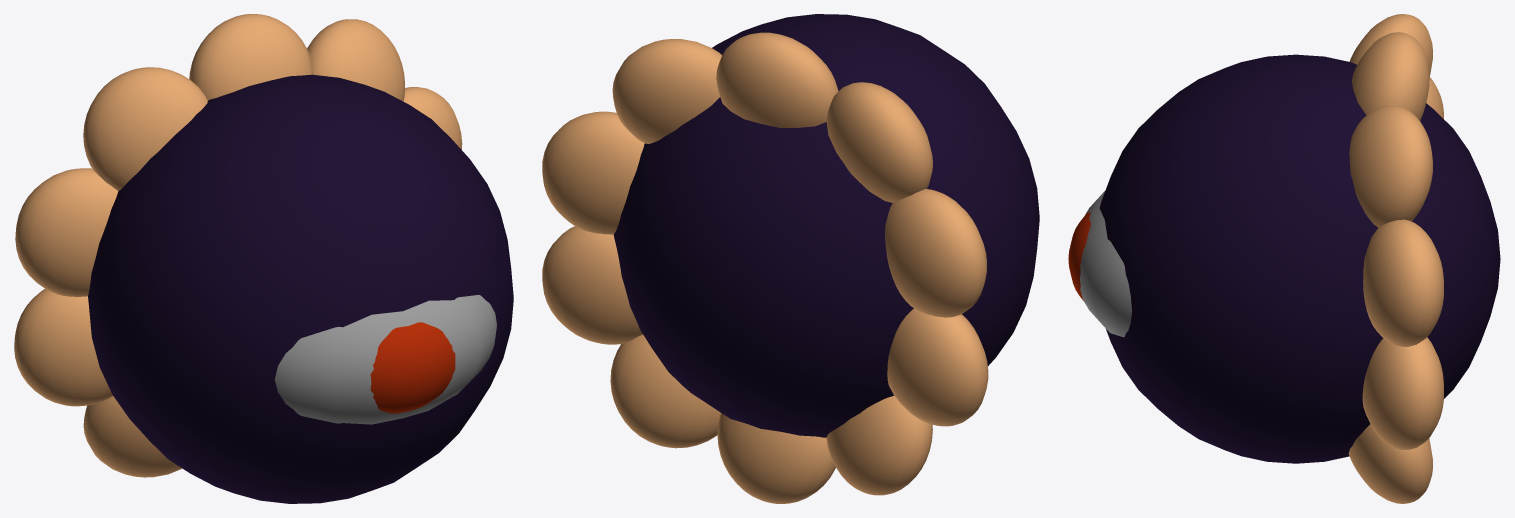
File: EnemyDark.fbx
3 renders of one model, left to right at view 1: azimuth 30°, elevation 25°; view 2: azimuth 150°, elevation 25°; view 3: azimuth 270°, elevation 25°, orthographic. The views are drawn at different scales.
Visible parts, largest first — view 1: group7_pasted__group5_pasted__pasted__group3_pasted__pasted_; view 2: group7_pasted__group5_pasted__pasted__group3_pasted__pasted_; view 3: group7_pasted__group5_pasted__pasted__group3_pasted__pasted_.
Boxes of the visible parts, bbox=[...] form: group7_pasted__group5_pasted__pasted__group3_pasted__pasted_: bbox=[14, 14, 513, 503]; group7_pasted__group5_pasted__pasted__group3_pasted__pasted_: bbox=[542, 14, 1039, 503]; group7_pasted__group5_pasted__pasted__group3_pasted__pasted_: bbox=[1068, 14, 1500, 503].
Size of the model in its own units: 4.64 by 4.7 by 4.15.
